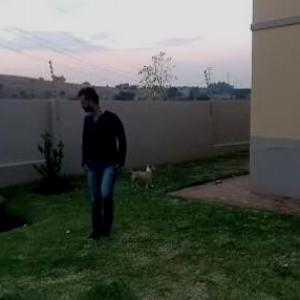follow: (79, 82, 130, 239)
